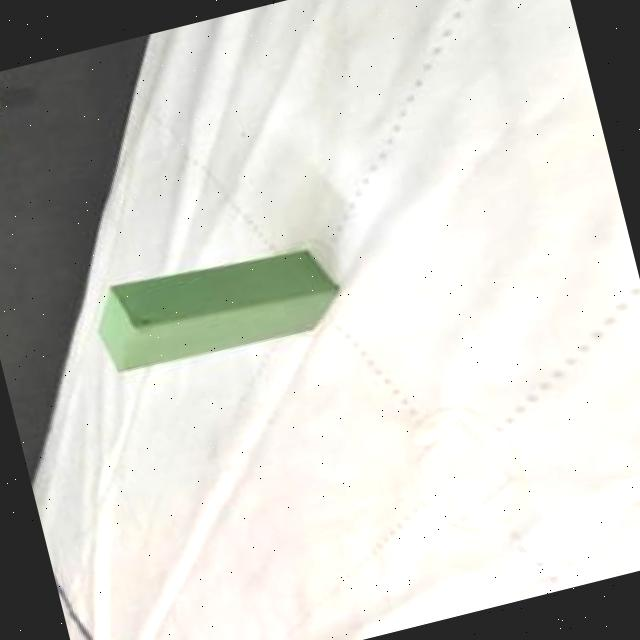greenbox: (90, 227, 354, 376)
